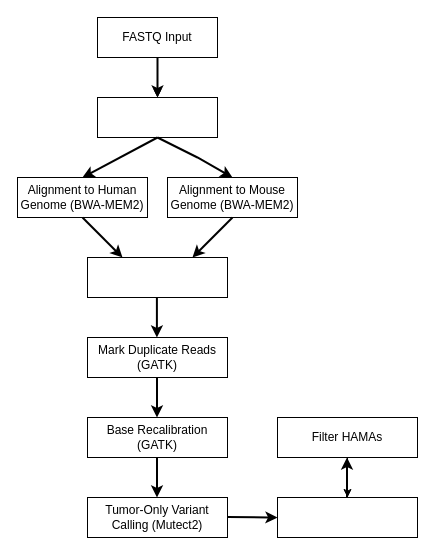
Image size: 435x555. Some labels were removed from this diagram. The centre of each missing label's shape, as x and y in pixels:
"Deconvolution of Mouse Reads (bamcmp)" goes at pixel 157 277.
"Filter Variants (GATK)" goes at pixel 347 517.
"Quality Control (fastp)" goes at pixel 157 117.
